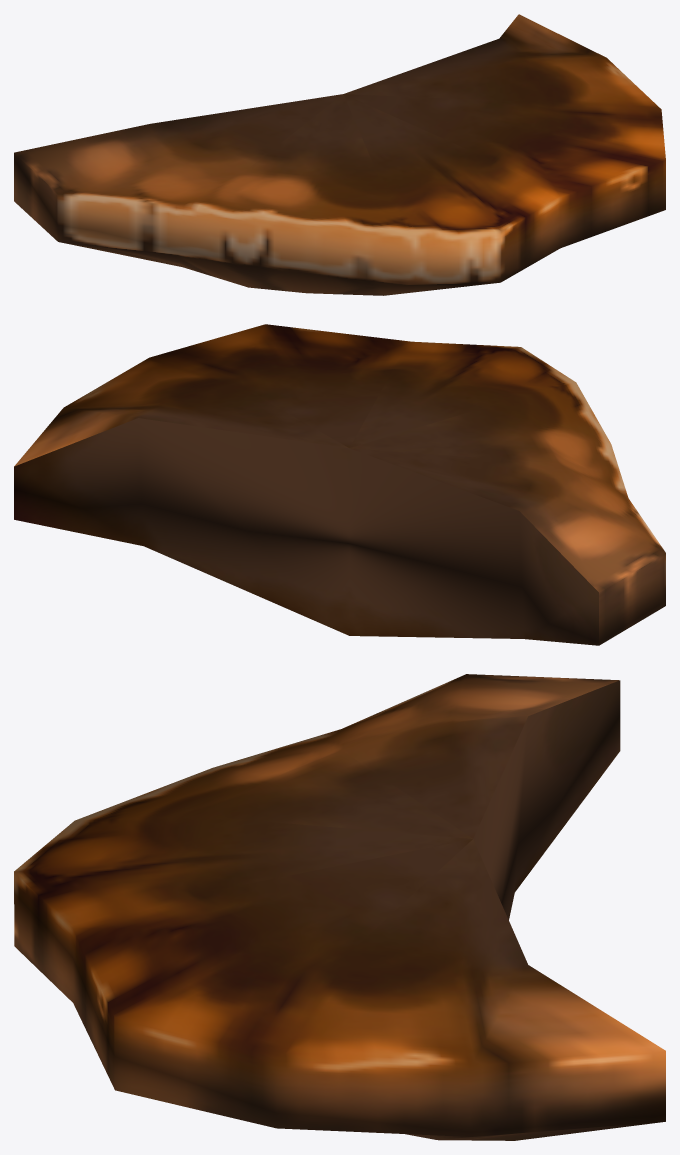
The model's file is Mushroom02.fbx.
3 views of the same model, one above another, from view 1: azimuth 30°, elevation 25°; view 2: azimuth 150°, elevation 25°; view 3: azimuth 270°, elevation 25° (orthographic). The views are drawn at different scales.
Parts seen in each view (by area): view 1: Mushroom02; view 2: Mushroom02; view 3: Mushroom02.
Part boxes in pixels (bbox=[...]): Mushroom02: bbox=[14, 14, 665, 295]; Mushroom02: bbox=[14, 324, 665, 645]; Mushroom02: bbox=[14, 674, 665, 1140].
Size of the model in its own units: 0.9717 by 0.2901 by 0.6832.
